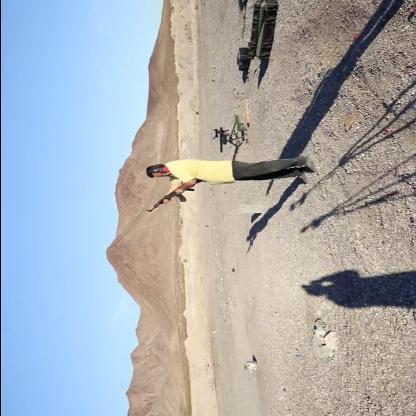long weapon: (143, 178, 209, 216), (204, 121, 242, 156)
